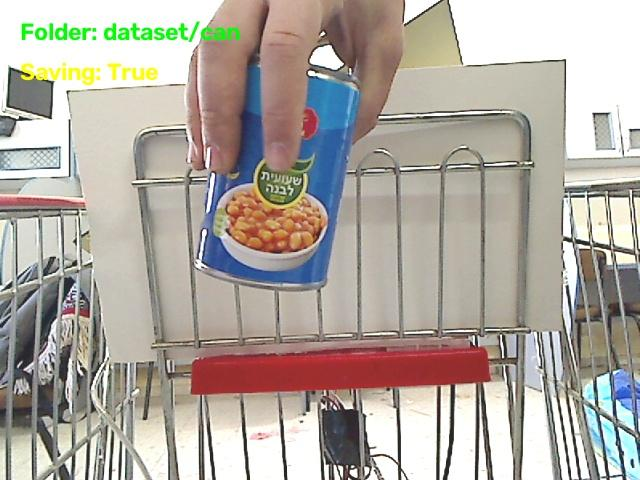can: (195, 64, 359, 289)
